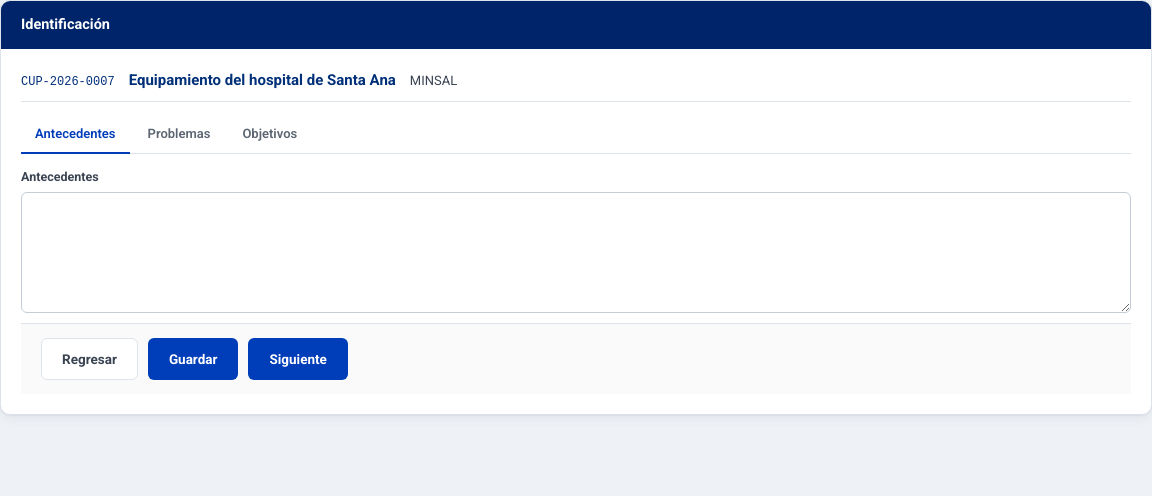
Test case: IdentificacionPage · CU-PRE-04 › árboles en PDF › muestra el archivo que ya venía cargado
The width and height of the screenshot is (1152, 496).
Check: the text "MINSAL" is shown, box [410,71,457,90]
Step 1. Click the tab "Problemas" → (179, 135), box [134,116,224,154]
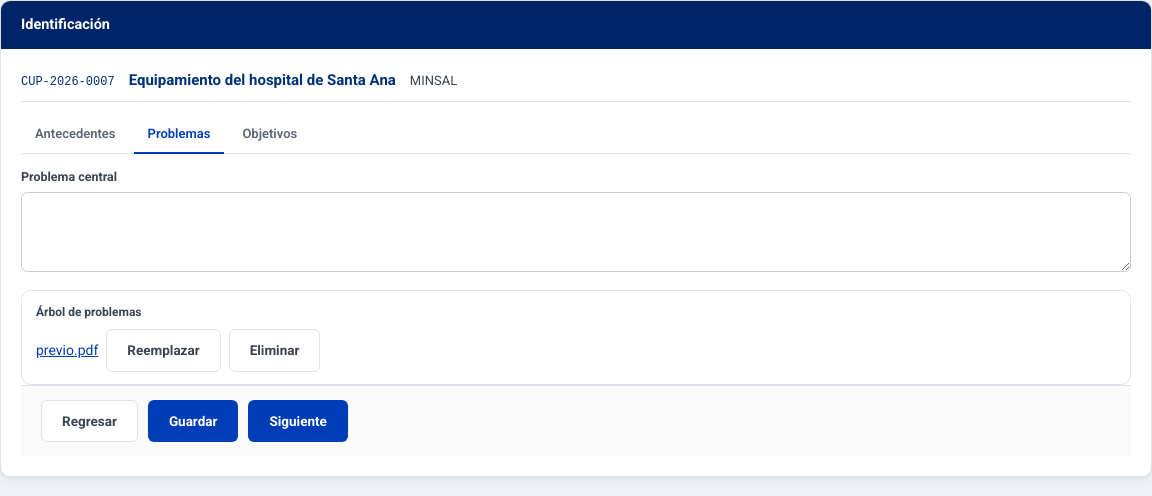
Check: the button "previo.pdf" is shown, box [36,340,98,361]
Check: the button "Reemplazar" is shown, box [106,329,221,372]
